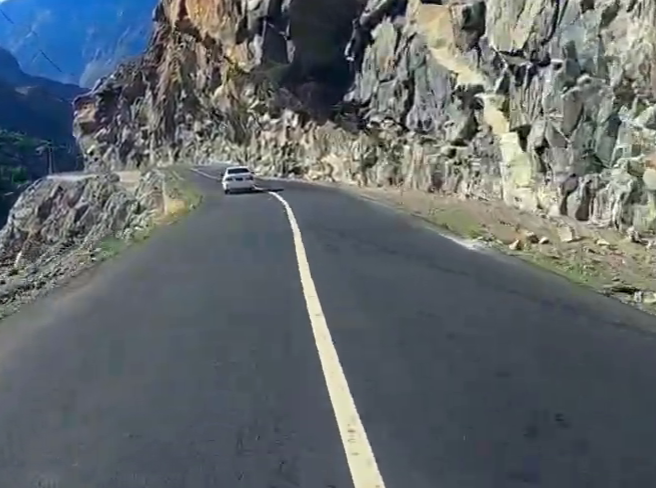left: (206, 197, 517, 462)
